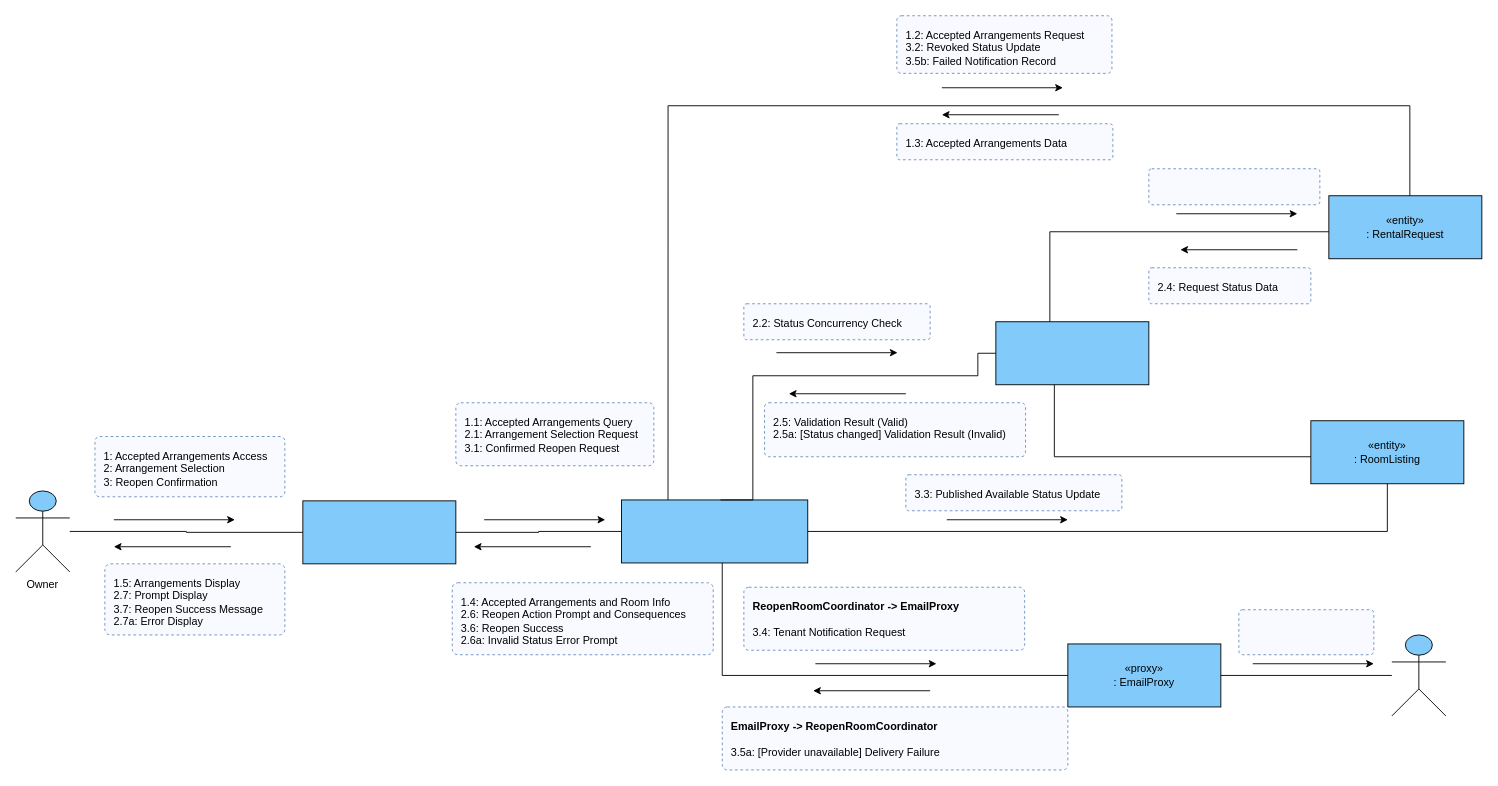
This 1498x786 diagram has some shape labels left out. Each missing label, with the box of its shape:
2.3: Request Status Query: (1148, 168, 1320, 205)
3.5: Tenant Notification: (1238, 609, 1374, 655)
Email Provider: (1391, 634, 1446, 716)
«business logic» : ReopenRules: (995, 321, 1149, 385)
«coordinator» : ReopenRoomCoordinator: (621, 499, 808, 563)
«user interaction» : OwnerUI: (302, 500, 456, 564)
